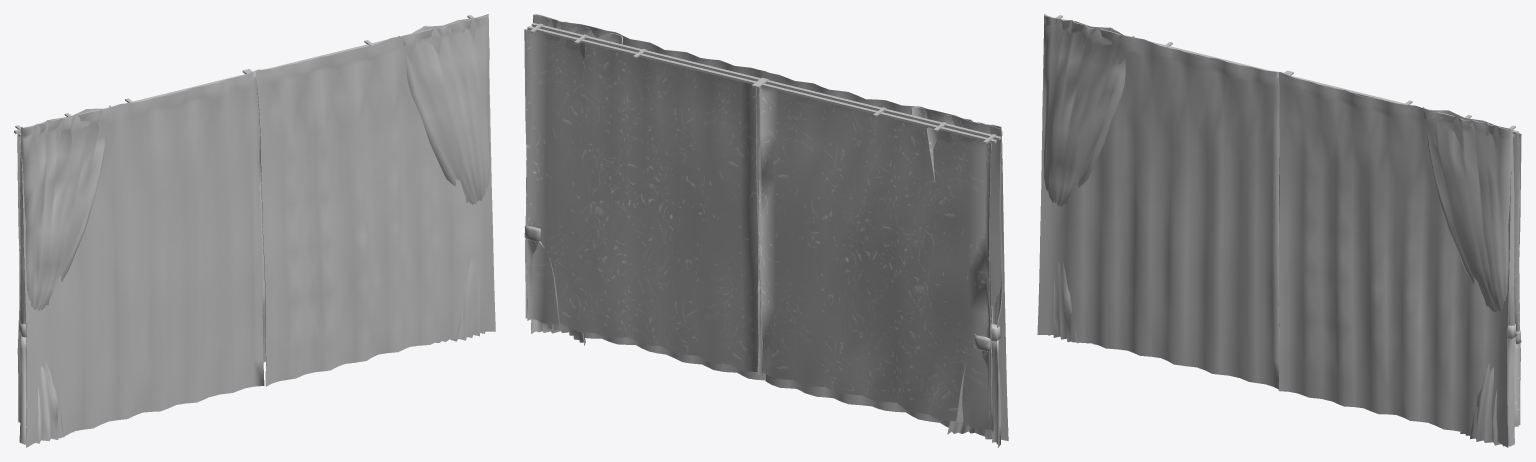
File: jov_kartain_set.fbx
The picture shows the model from 3 angles, left to right: view 1: azimuth 30°, elevation 25°; view 2: azimuth 150°, elevation 25°; view 3: azimuth 330°, elevation 25°; orthographic projection.
Parts seen in each view (by area): view 1: katen2_l, katen2_r, katen2close_l, katen2close_r, katen1_l, katen1_r; view 2: katen1_r, katen1_l, katen2_l, katen2_r, katen2close_l, jov_katain_rail_c, jov_katain_rail_a, katen1close_l, jov_katain_rail_d, katen1close_r, katen2close_r; view 3: katen2_l, katen2_r, katen2close_r, katen2close_l, katen1close_r, katen1_r.
Boxes of the visible parts, <box> form: katen2_l: <box>21,69,264,447</box>; katen2_r: <box>255,14,495,386</box>; katen2close_l: <box>18,105,110,444</box>; katen2close_r: <box>398,14,489,342</box>; katen1_l: <box>17,133,20,422</box>; katen1_r: <box>259,131,265,362</box>; katen1_r: <box>524,29,762,375</box>; katen1_l: <box>757,86,993,432</box>; katen2_l: <box>761,70,1008,440</box>; katen2_r: <box>533,15,766,380</box>; katen2close_l: <box>911,106,1003,447</box>; jov_katain_rail_c: <box>571,34,951,131</box>; jov_katain_rail_a: <box>630,49,890,116</box>; katen1close_l: <box>926,127,991,432</box>; jov_katain_rail_d: <box>527,23,1001,143</box>; katen1close_r: <box>524,29,586,326</box>; katen2close_r: <box>531,14,622,345</box>; katen2_l: <box>1037,15,1284,389</box>; katen2_r: <box>1278,72,1511,447</box>; katen2close_r: <box>1423,107,1516,446</box>; katen2close_l: <box>1043,14,1134,344</box>; katen1close_r: <box>1513,133,1521,426</box>; katen1_r: <box>1514,133,1521,426</box>.
Size of the model in its own units: 317 by 205 by 20.27.
